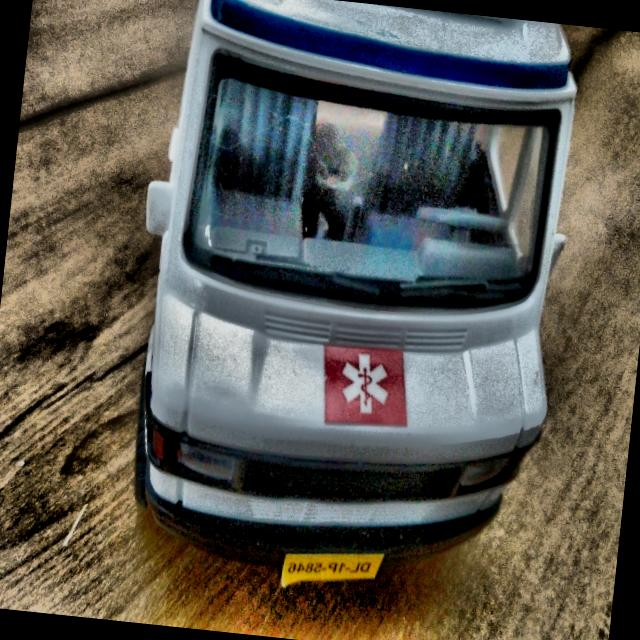Ambulance: (108, 0, 588, 618)
